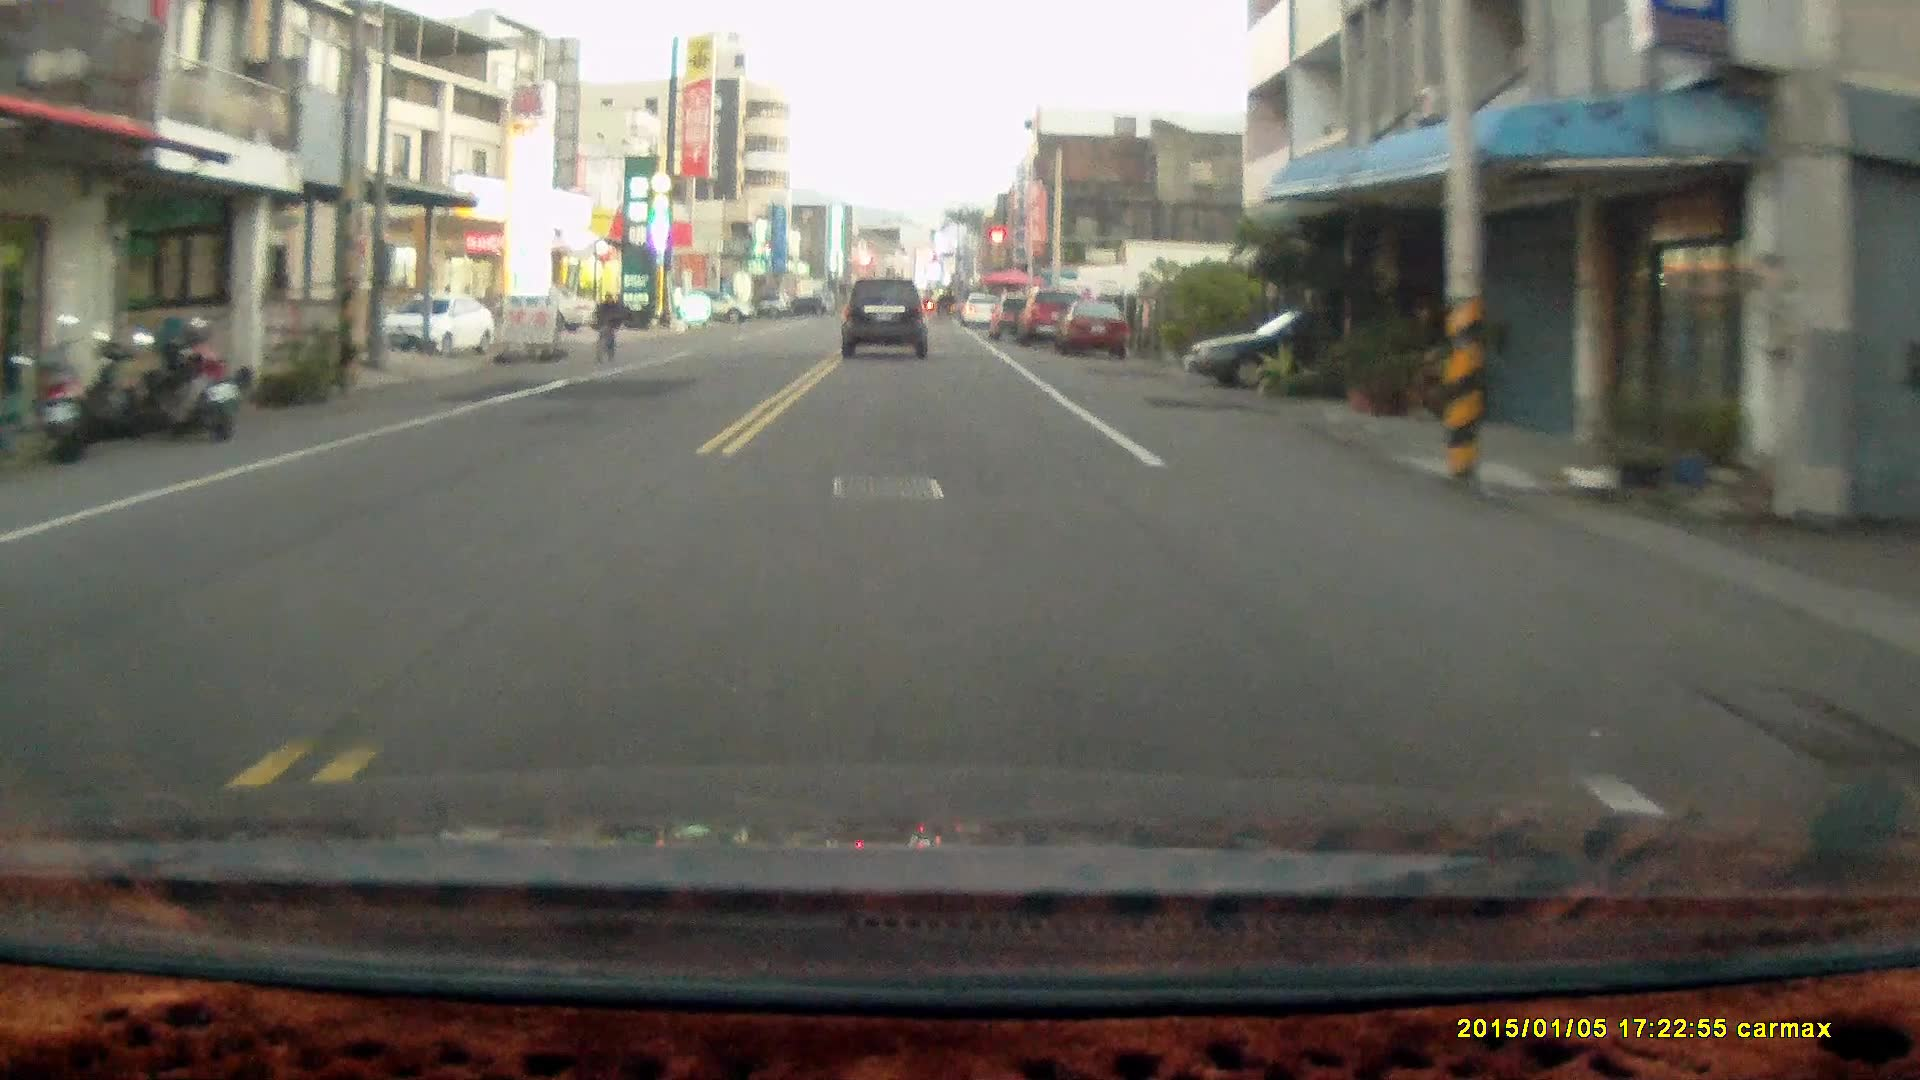rider: (592, 288, 619, 366)
vehicle: (1183, 320, 1373, 386), (839, 275, 935, 362), (389, 291, 493, 355), (487, 282, 599, 336), (1054, 297, 1133, 359), (671, 286, 757, 323)
